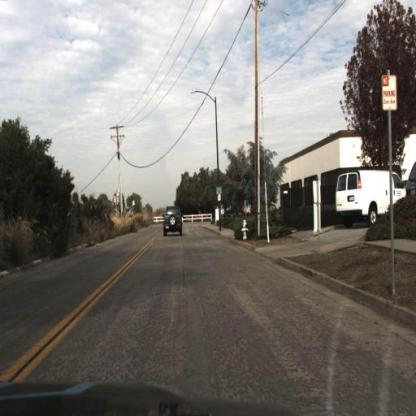car: (329, 164, 411, 226), (162, 201, 185, 239)
truck: (336, 170, 403, 227)
